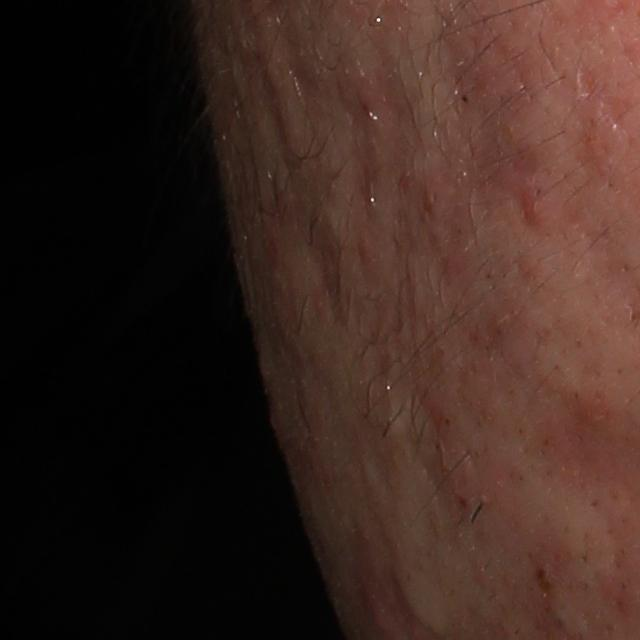papule: (361, 584, 398, 637), (513, 188, 548, 228)
